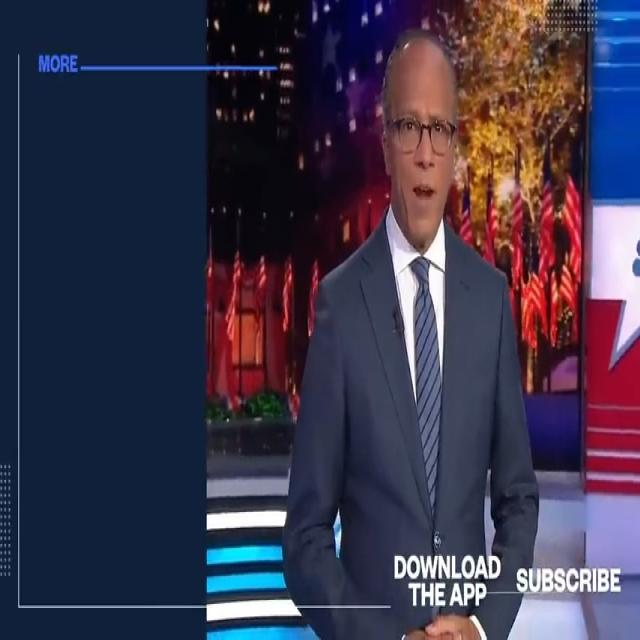non-fight: (278, 30, 542, 640)
